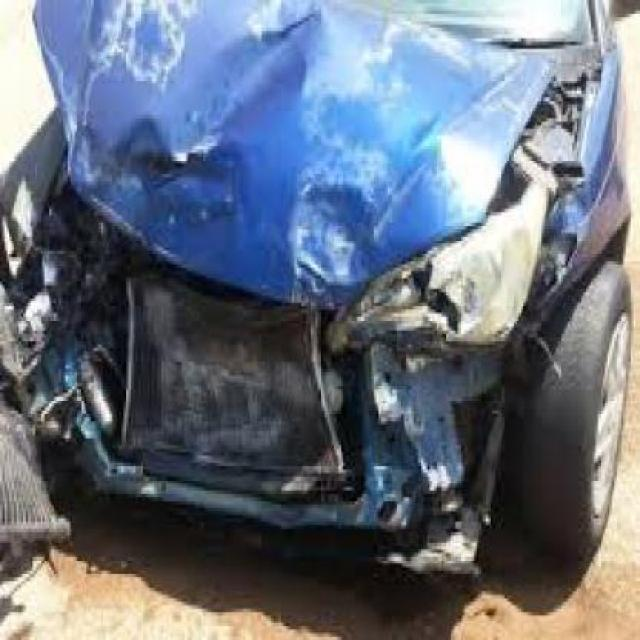damaged-front-bumper: (0, 326, 525, 540)
